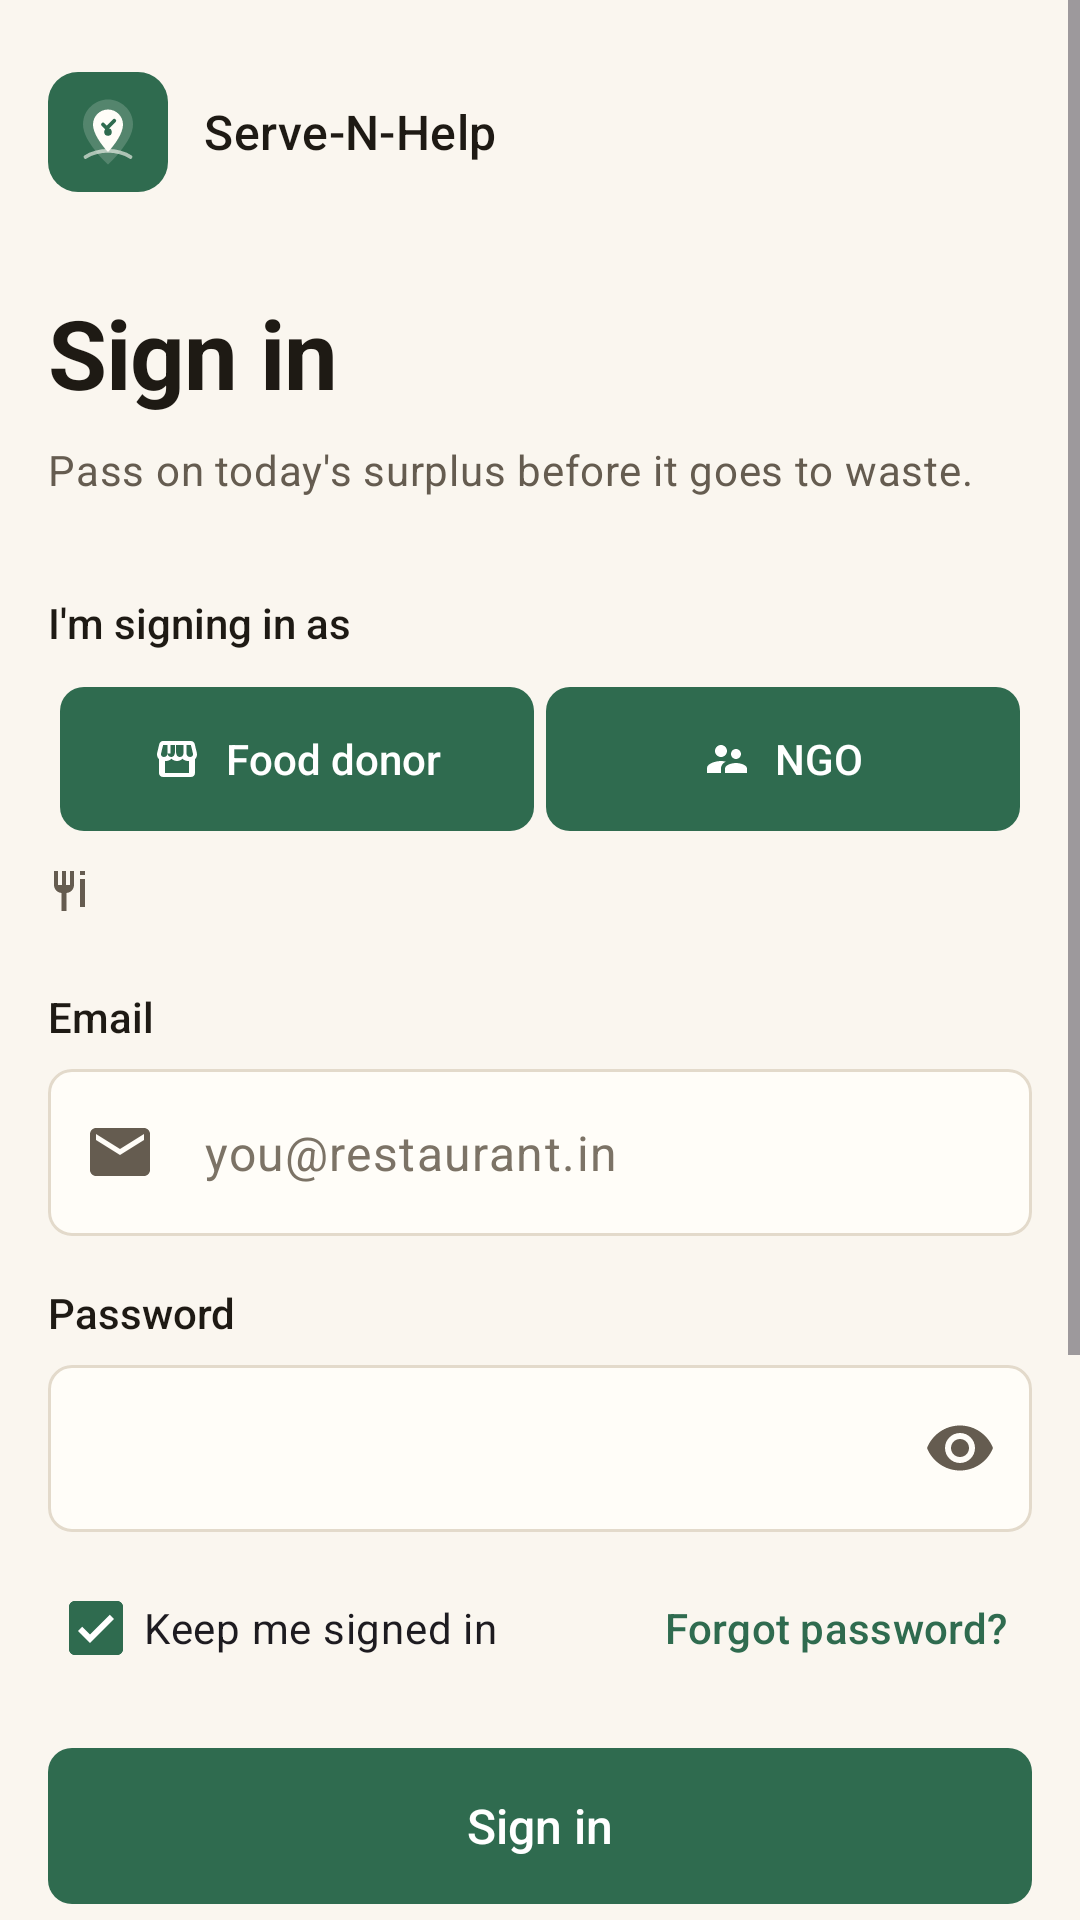

Icons on this 1080px x 1920px Android screen, each with its box as (x1, y1, x2, y2):
restaurant: (54, 871, 85, 911)
